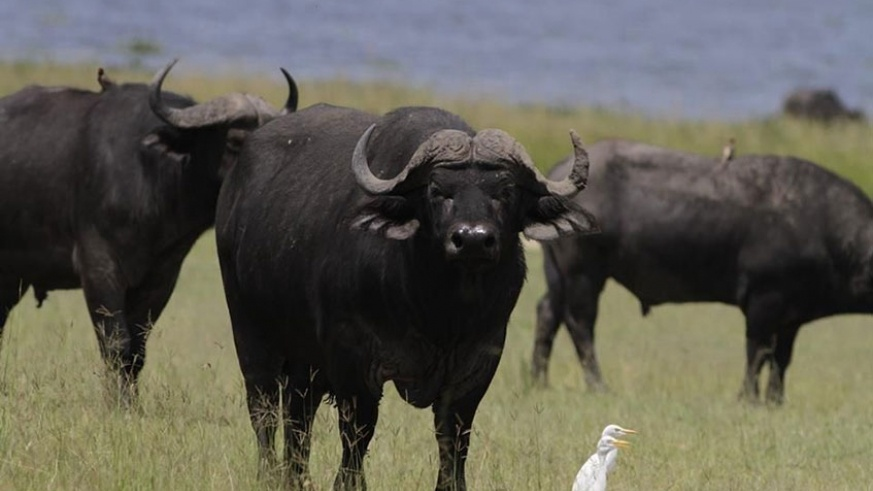bird: (582, 420, 638, 491), (571, 436, 632, 491)
buffalo: (211, 97, 590, 490), (0, 48, 305, 430), (530, 124, 873, 412)
